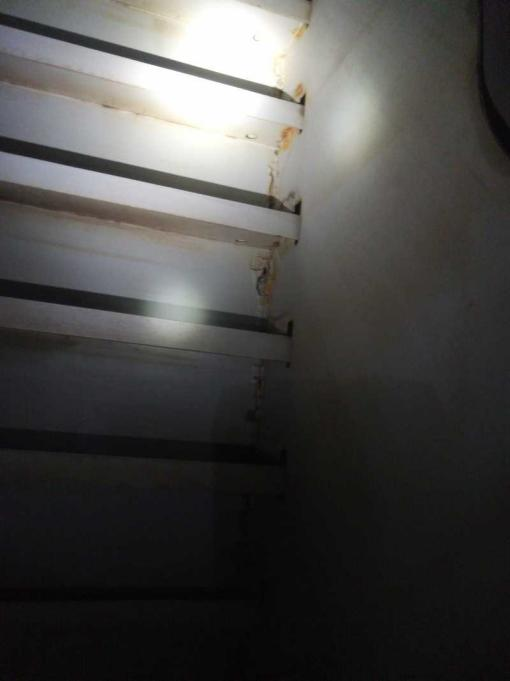corrosion: (256, 138, 301, 200), (279, 27, 312, 94), (250, 239, 275, 303)
